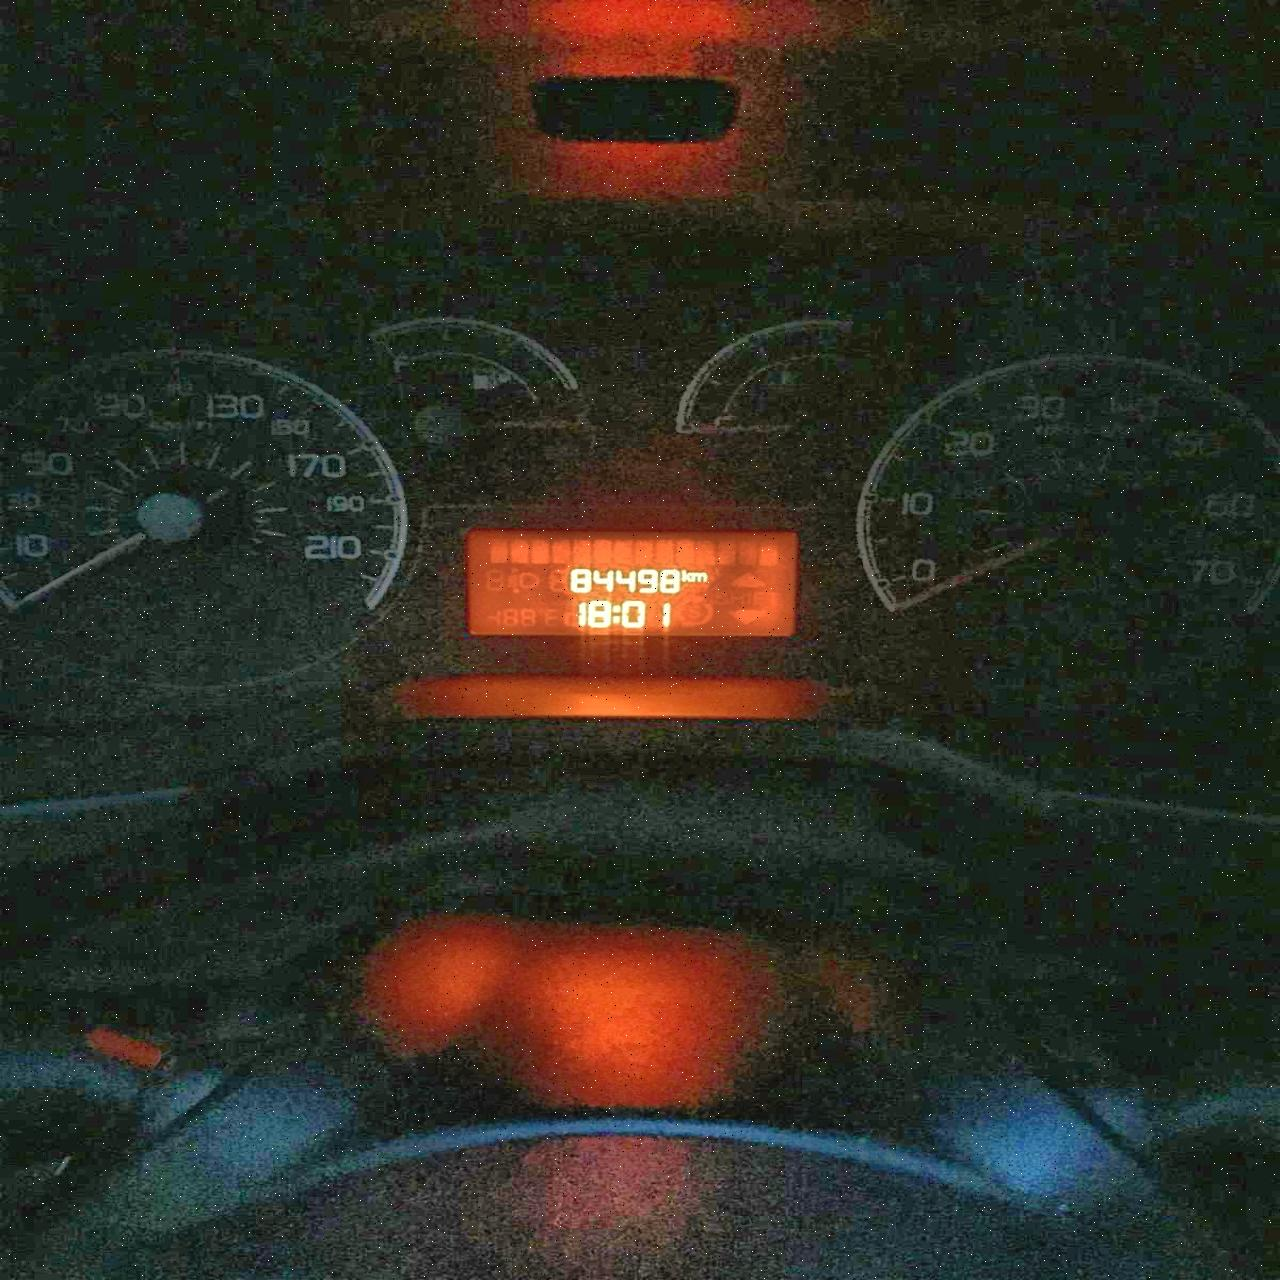0: (620, 598, 646, 628)
1: (658, 598, 673, 628), (577, 599, 587, 626)
4: (592, 568, 614, 593), (614, 568, 635, 592)
8: (587, 599, 611, 628), (570, 566, 592, 593), (659, 568, 681, 594)
9: (636, 568, 659, 594)
X: (690, 571, 708, 583), (681, 568, 693, 581), (612, 604, 619, 625)
odometer: (467, 525, 802, 645)
